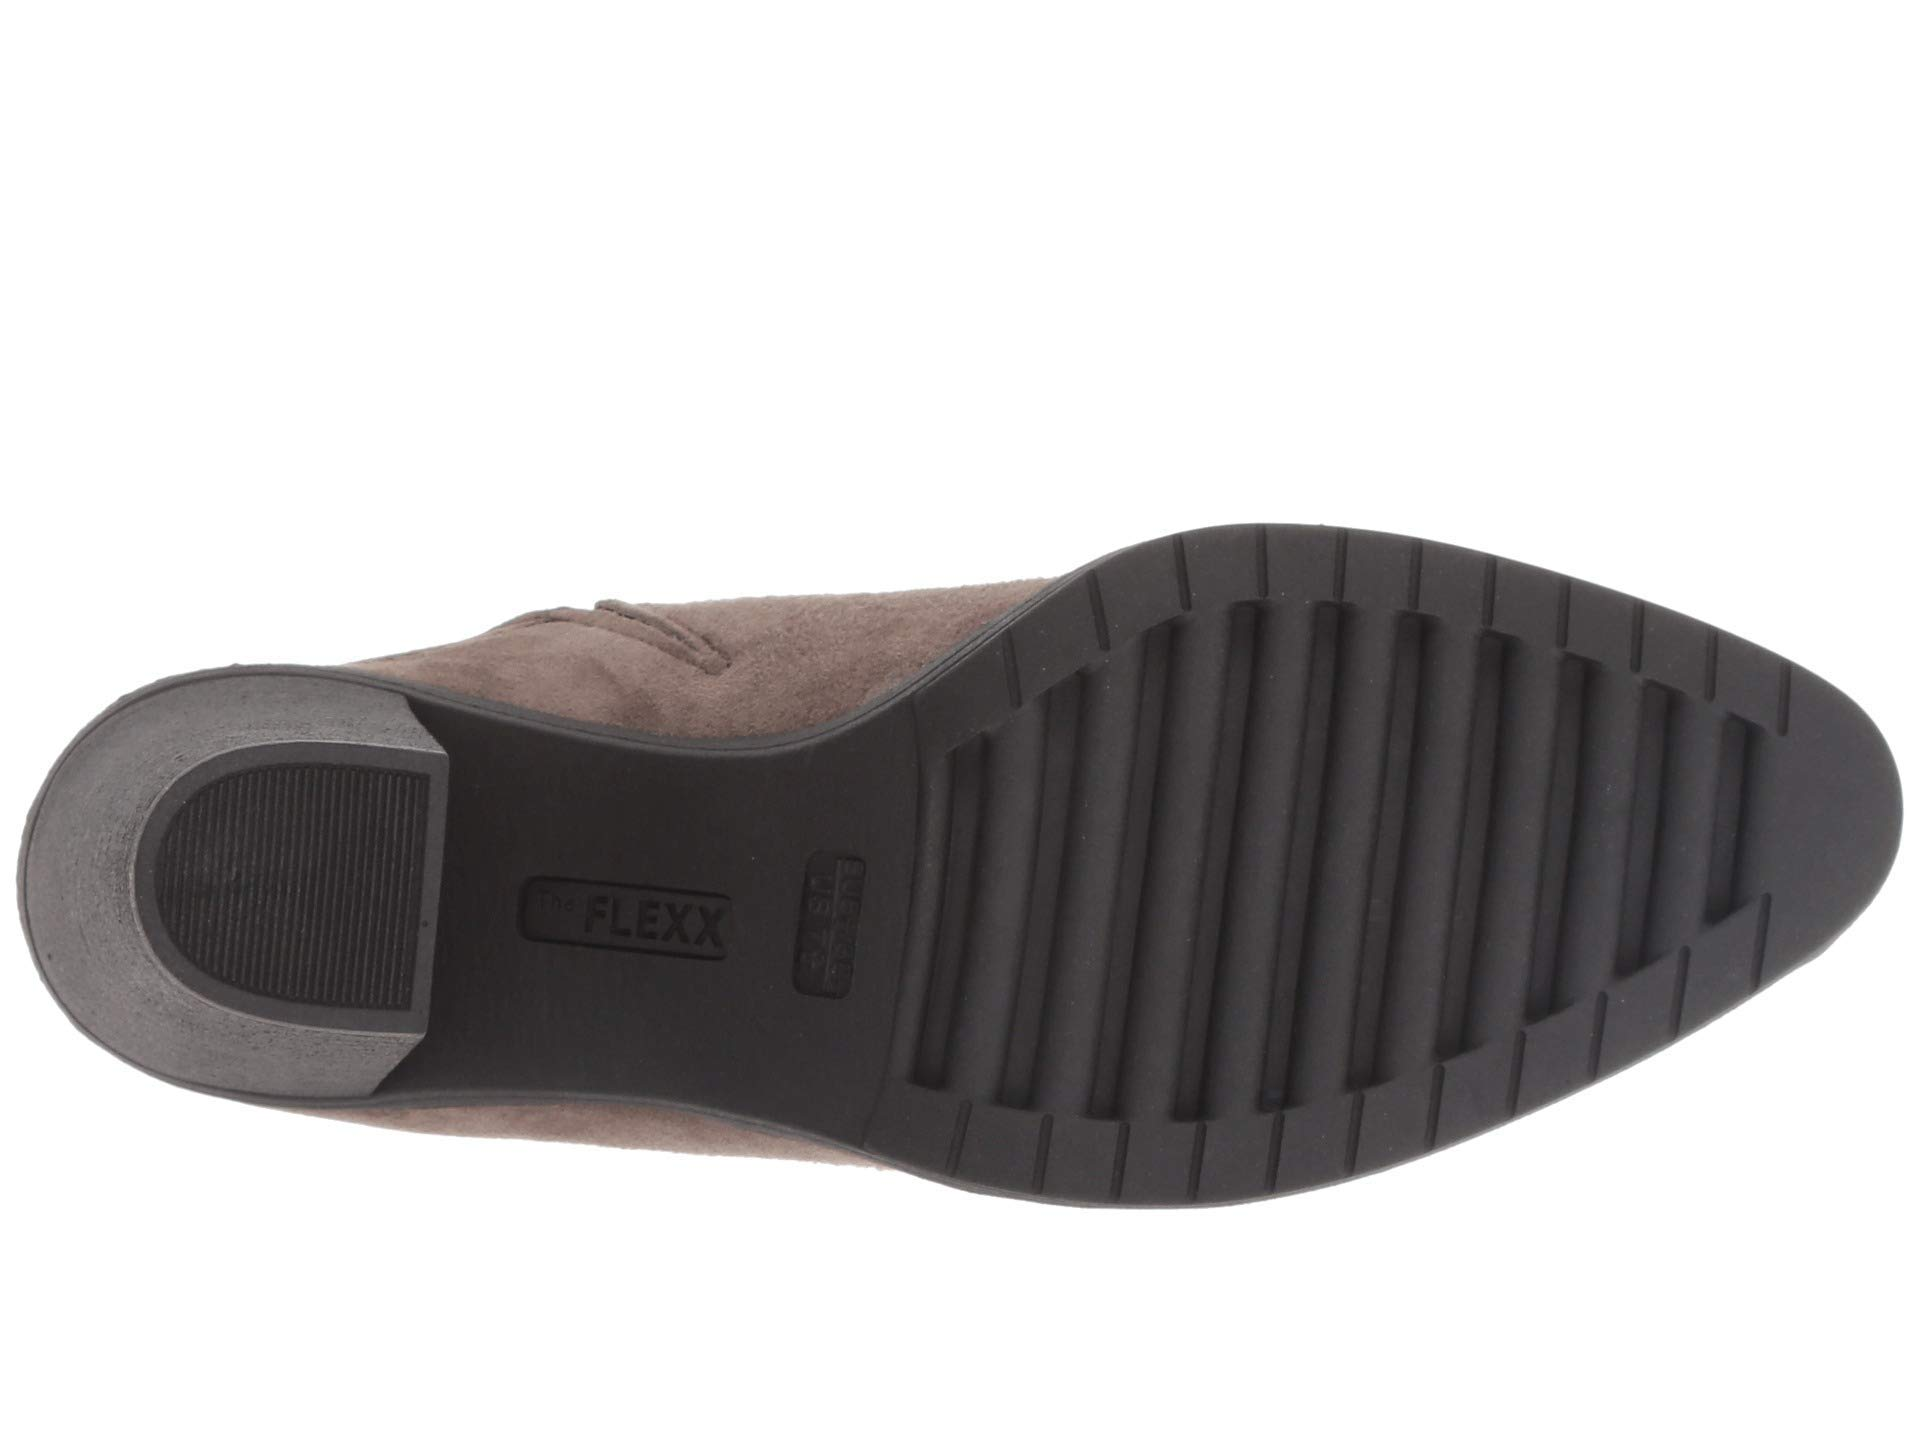line: (1163, 584, 1492, 1131), (236, 802, 402, 970)
quad: (1163, 584, 1492, 1131)
